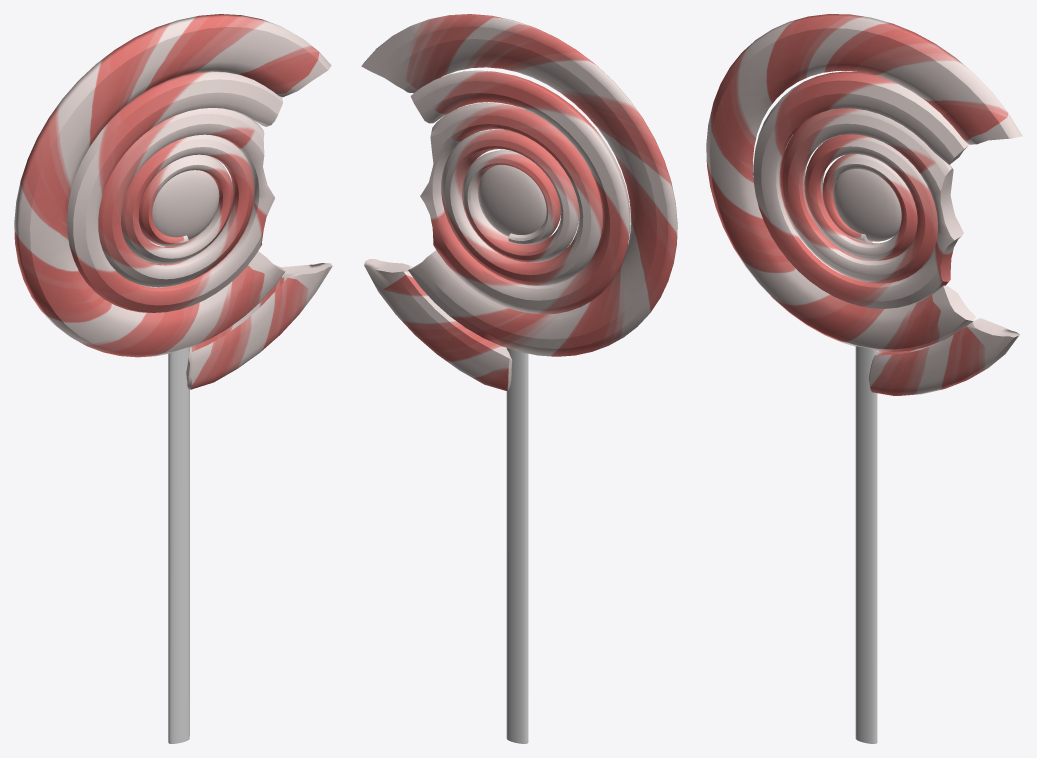
Rendered from Lollipop3Final.fbx.
3 views of the same model, side by side, from view 1: azimuth 30°, elevation 25°; view 2: azimuth 150°, elevation 25°; view 3: azimuth 330°, elevation 25° (orthographic).
Parts seen in each view (by area): view 1: Lollipop; view 2: Lollipop; view 3: Lollipop.
Part boxes in pixels (left/top/right/bottom): Lollipop: left=14, top=14, right=332, bottom=743; Lollipop: left=361, top=14, right=677, bottom=743; Lollipop: left=706, top=14, right=1022, bottom=743.
Size of the model in its own units: 1848 by 4034 by 128.
